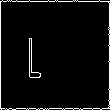L_N: (48, 29, 62, 81)
